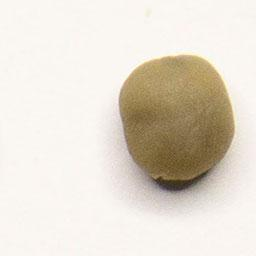peaberry: (115, 52, 239, 186)
